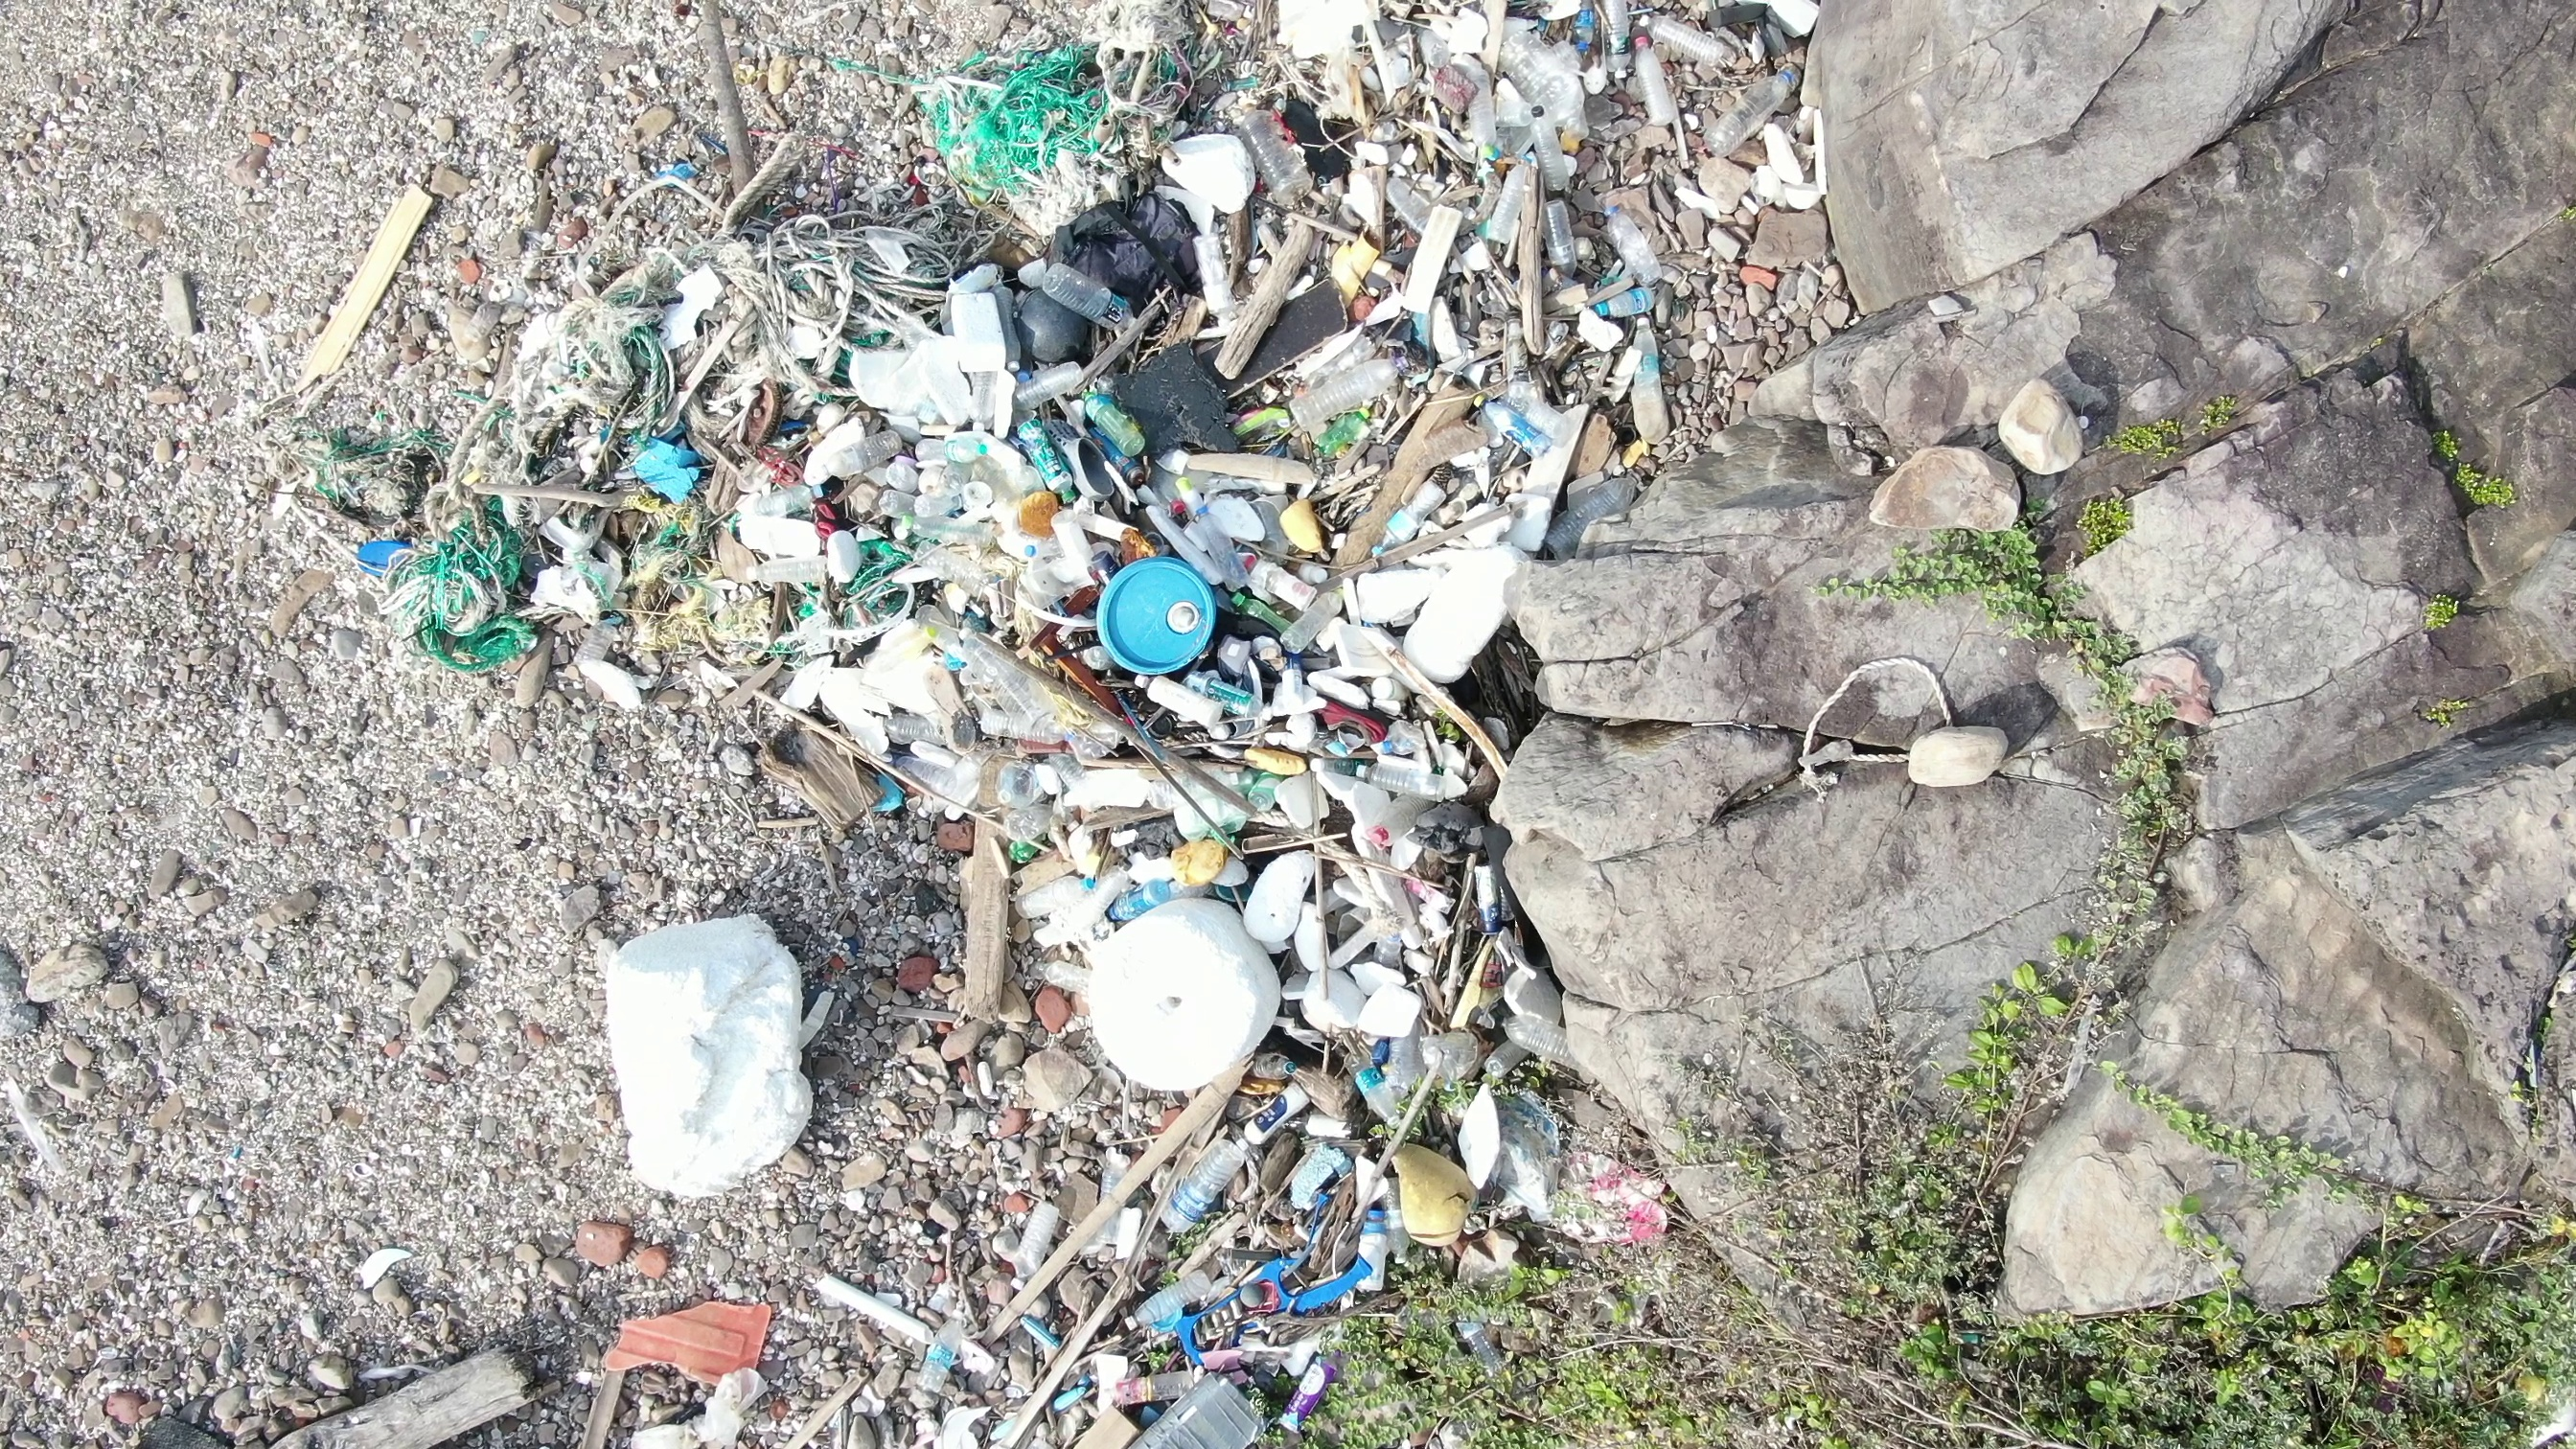bottle: (1292, 350, 1428, 432), (1154, 1138, 1249, 1238), (1700, 64, 1792, 165), (1040, 258, 1146, 338), (1345, 740, 1460, 809), (1612, 30, 1688, 133), (1626, 317, 1688, 441), (1244, 110, 1316, 214), (1270, 1348, 1348, 1440), (1339, 1028, 1408, 1131), (1127, 653, 1217, 727), (1375, 478, 1453, 563), (1599, 191, 1667, 285), (1470, 395, 1562, 462), (1185, 497, 1247, 594), (1525, 104, 1589, 195), (1076, 389, 1148, 465), (1497, 1003, 1573, 1074), (1016, 409, 1076, 495), (878, 711, 998, 754), (821, 423, 913, 478), (1424, 1019, 1490, 1088), (1532, 195, 1583, 280), (1591, 281, 1672, 331), (1235, 586, 1292, 635), (1249, 766, 1279, 819)
garbage: (402, 16, 1824, 692), (777, 697, 1622, 1166), (596, 1169, 1674, 1449), (1801, 663, 1982, 814)
